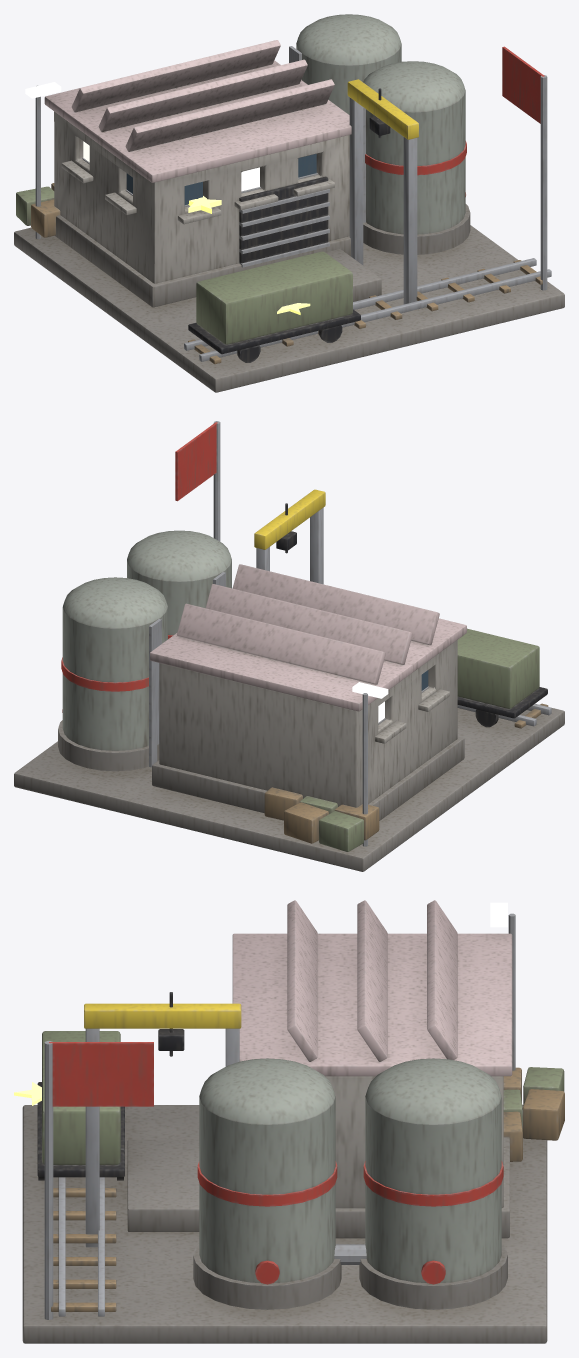
The model's file is red_supply.glb.
The picture shows the model from 3 angles, top to bottom: view 1: azimuth 30°, elevation 25°; view 2: azimuth 150°, elevation 25°; view 3: azimuth 270°, elevation 25°; orthographic projection. The views are drawn at different scales.
Visible parts, largest first — view 1: Hull; view 2: Hull; view 3: Hull.
Boxes of the visible parts, <box> form: Hull: <box>14,14,564,392</box>; Hull: <box>14,421,564,871</box>; Hull: <box>14,900,564,1343</box>.
Size of the model in its own units: 6.05 by 3.72 by 6.3.
Materials: 14 (14 with a texture image).
